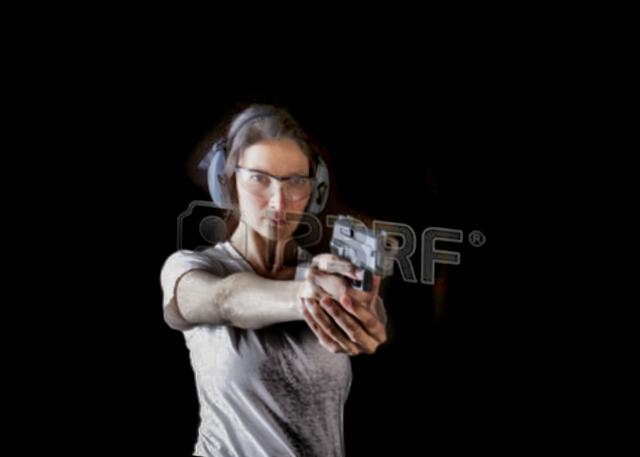pistol: (319, 206, 397, 292)
